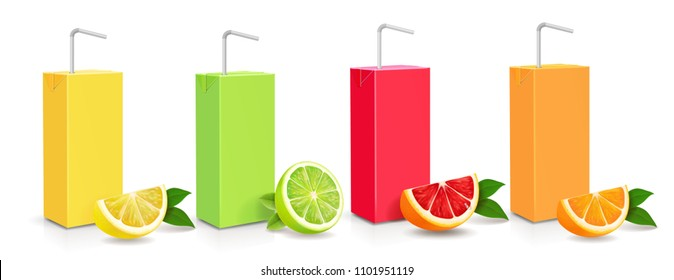carton: (500, 12, 618, 254), (184, 7, 292, 240), (343, 8, 446, 251), (33, 14, 136, 239)
